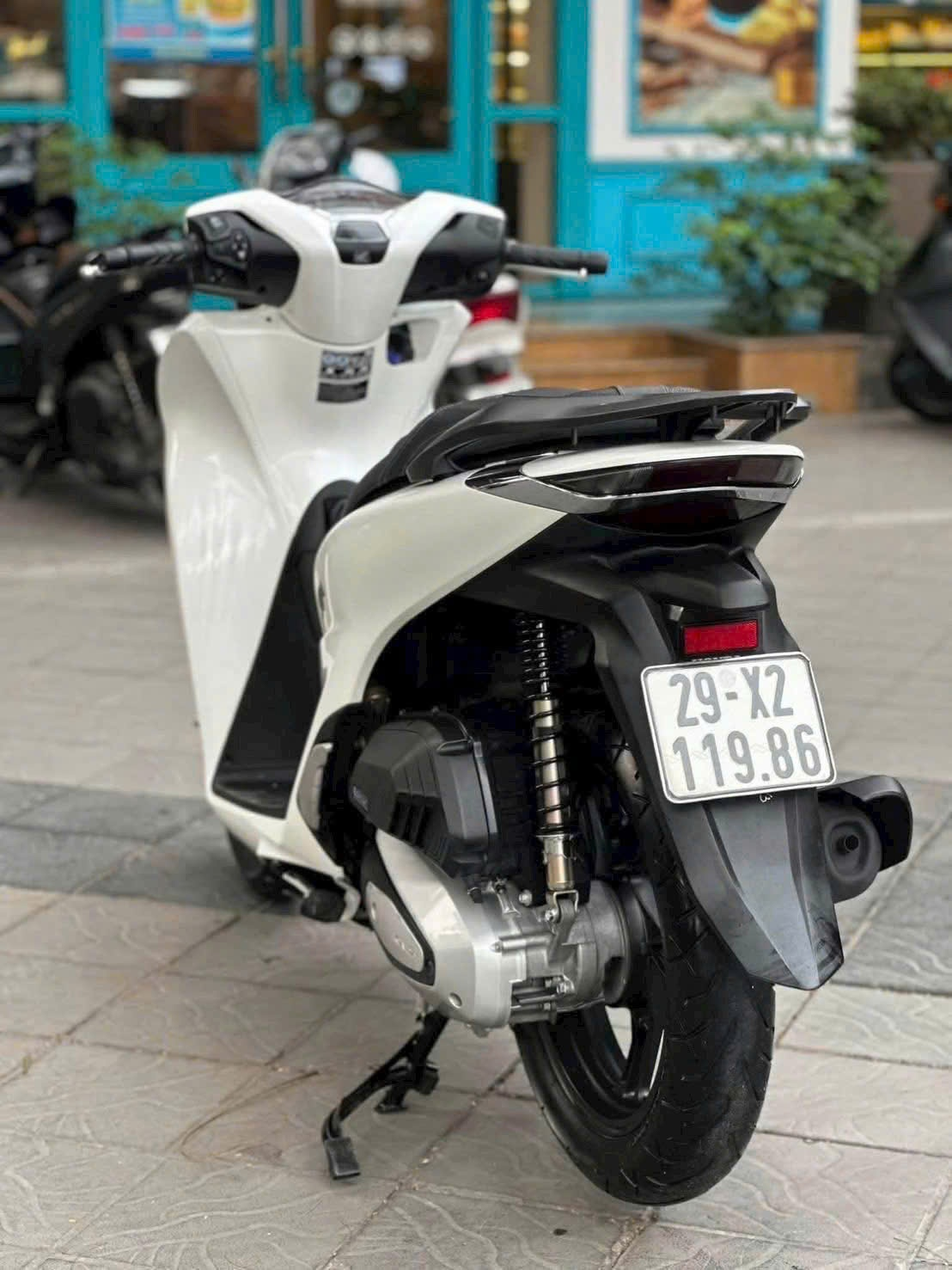Bien-so: (646, 619, 832, 771)
